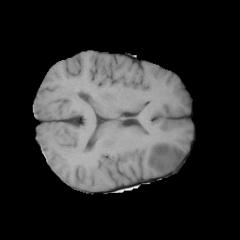glioma: (147, 142, 185, 174)
